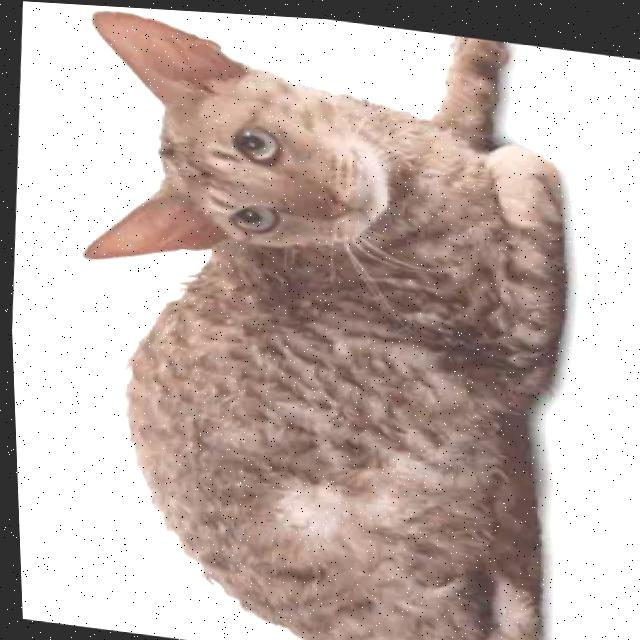Cornish Rex: (35, 2, 595, 640)
